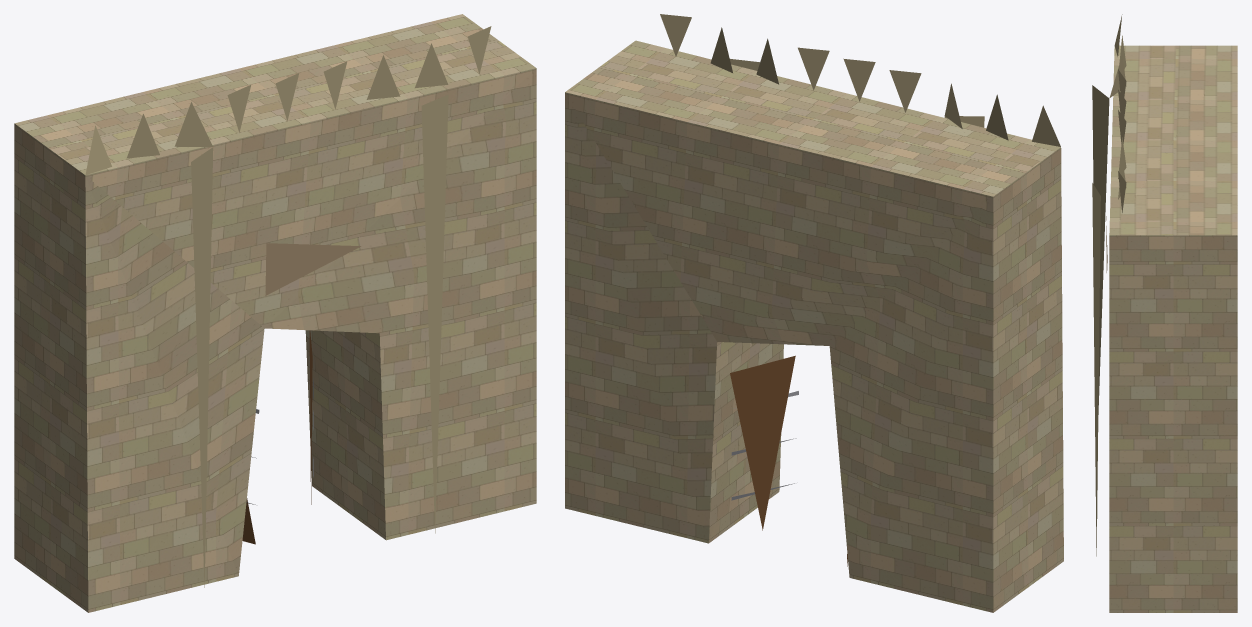
File: derbent_city_gate_lod2.glb
3 renders of one model, left to right at view 1: azimuth 30°, elevation 25°; view 2: azimuth 150°, elevation 25°; view 3: azimuth 270°, elevation 25°, orthographic. The views are drawn at different scales.
Visible parts, largest first — view 1: m; view 2: m; view 3: m.
Part boxes in pixels (x1=…): m: x1=14, y1=14, x2=536, y2=612; m: x1=565, y1=14, x2=1063, y2=612; m: x1=1092, y1=14, x2=1237, y2=612.
Size of the model in its own units: 14 by 14.3 by 4.53.
Materials: 4 (3 with a texture image).
